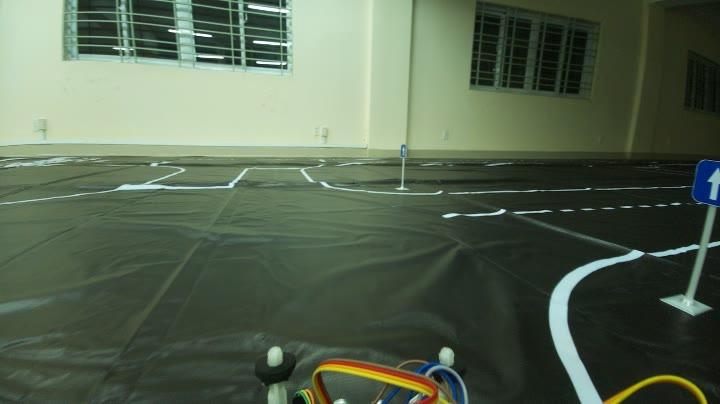onewayroad: (691, 161, 714, 204), (397, 142, 414, 162)
